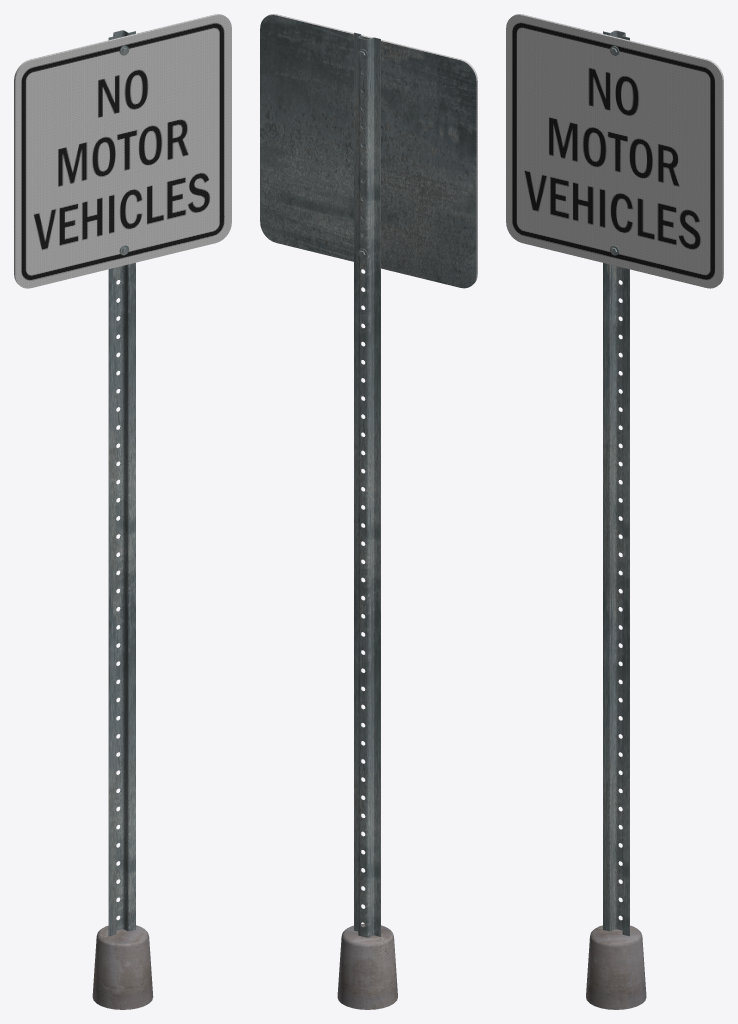
The model's file is nomotorvehicles_nsoc.obj.
3 renders of one model, left to right at view 1: azimuth 30°, elevation 25°; view 2: azimuth 150°, elevation 25°; view 3: azimuth 330°, elevation 25°, orthographic.
Visible parts, largest first — view 1: sign_no_moter_vehicles; view 2: sign_no_moter_vehicles; view 3: sign_no_moter_vehicles.
Part boxes in pixels (bbox=[...]): sign_no_moter_vehicles: bbox=[14, 14, 231, 1009]; sign_no_moter_vehicles: bbox=[260, 14, 477, 1009]; sign_no_moter_vehicles: bbox=[506, 14, 723, 1009].
Size of the model in its own units: 24.09 by 102 by 5.84.
Materials: 3 (3 with a texture image).
